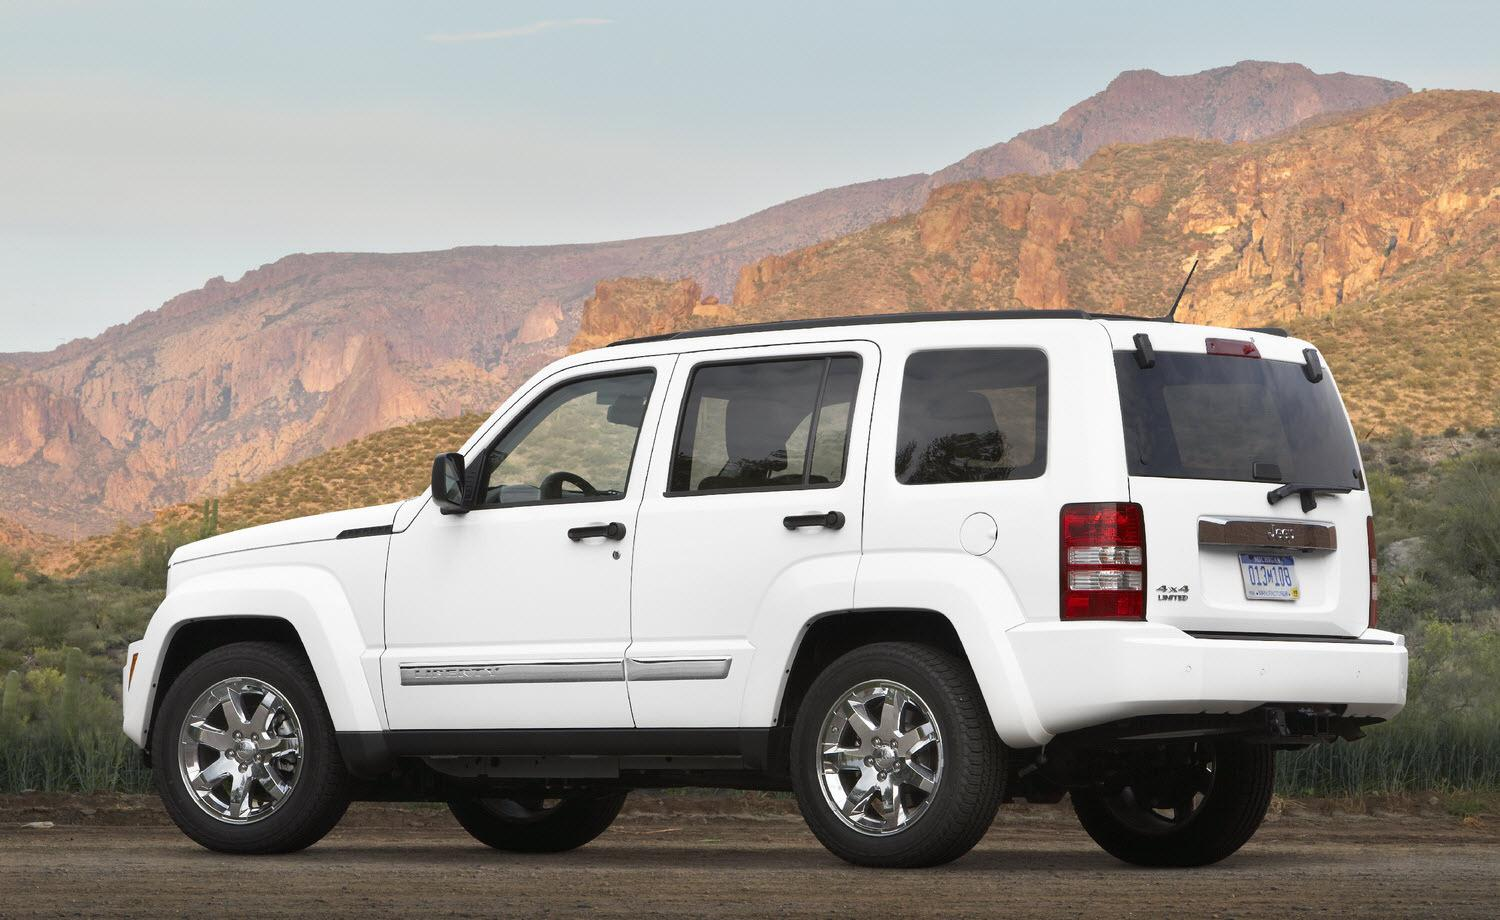jeep: (1255, 513, 1309, 553)
